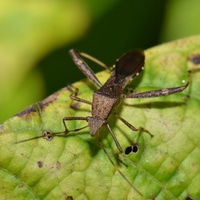insect: (6, 35, 199, 199), (126, 80, 189, 98)
